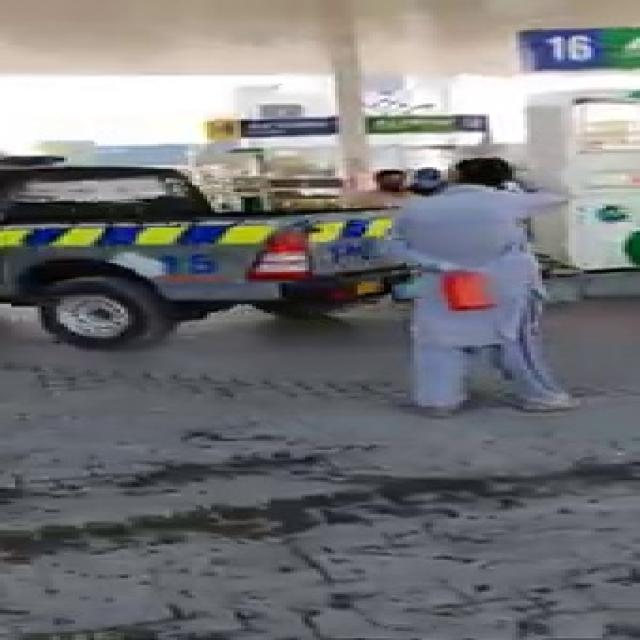police: (0, 154, 403, 322)
